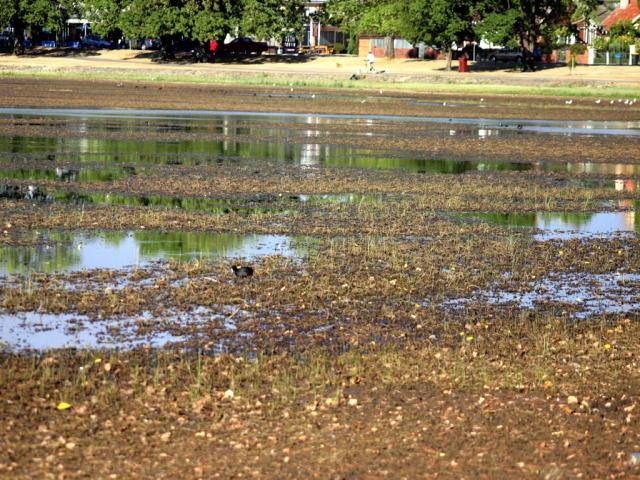Bird: (230, 265, 254, 279), (290, 80, 295, 89), (624, 100, 630, 106), (617, 98, 622, 105), (274, 84, 280, 89), (362, 98, 368, 103), (451, 130, 457, 135), (310, 95, 317, 98), (632, 97, 637, 101), (566, 101, 572, 104), (442, 101, 447, 104), (595, 100, 601, 102), (292, 88, 297, 90), (379, 90, 381, 95), (610, 101, 613, 104), (483, 98, 486, 100), (633, 102, 633, 107)
